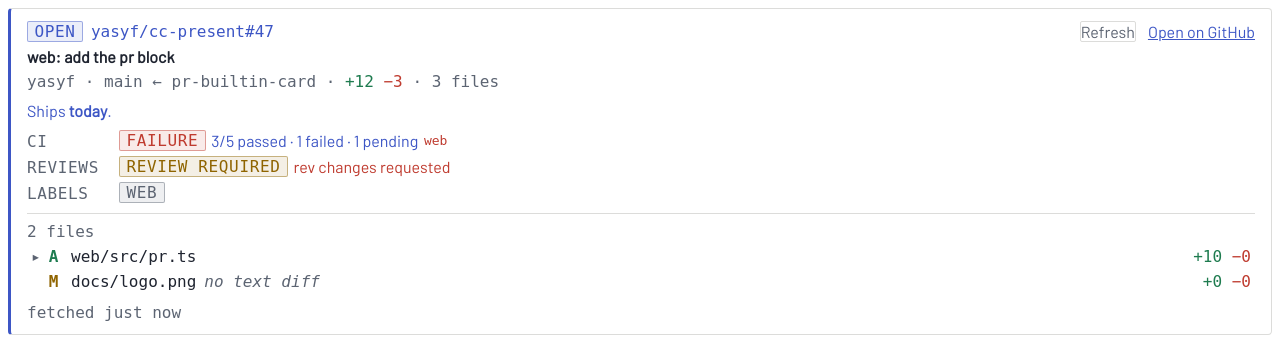
Test: PRView › refetches on refresh
This screenshot has width=1280, height=352.
Click the button "Refresh": (1108, 32) top-left (1080, 21), bottom-right (1136, 42)
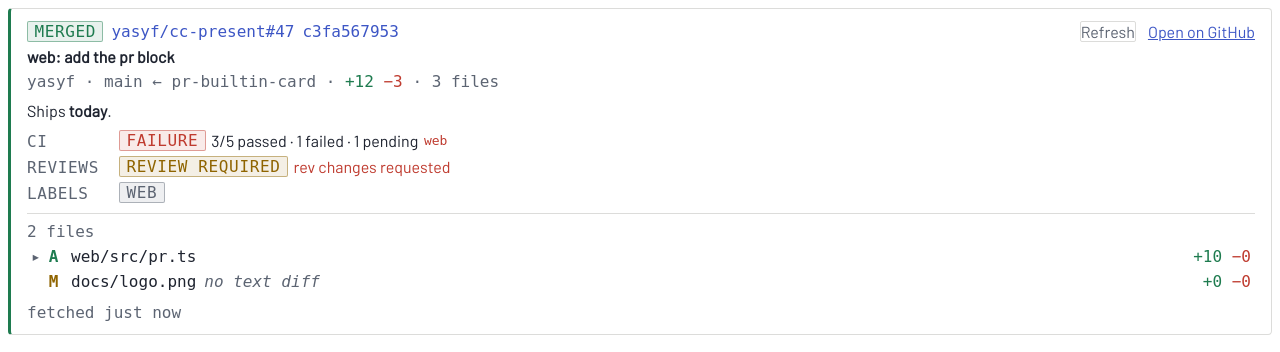
Expected: the link "c3fa567953" is shown, top-left (302, 22), bottom-right (399, 41)
